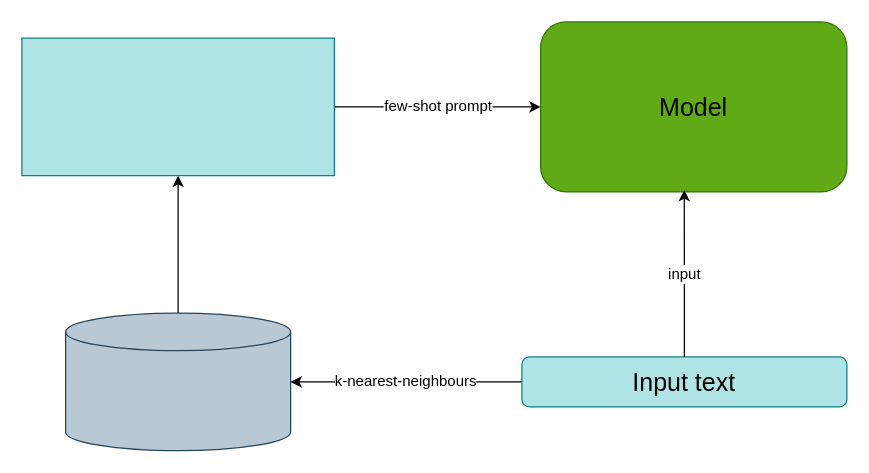
The diagram is 869 pixels wide and 473 high, and some of its shapes have lost their labels. The centre of each missing label's shape, as x and y in pixels:
"Toxic Examples" belongs at (x=177, y=106).
"Vector Database" belongs at (x=177, y=381).
